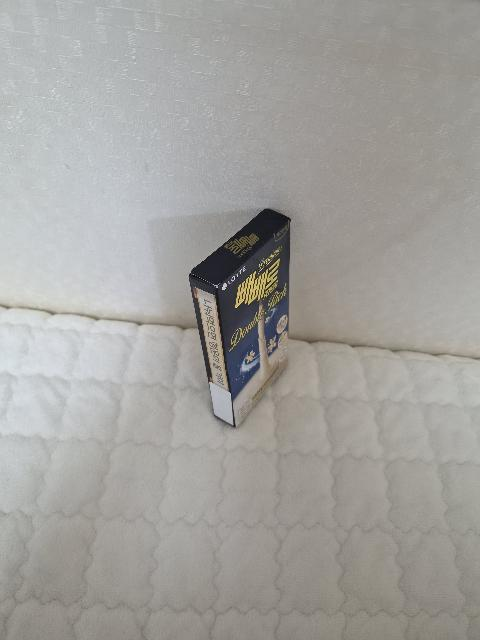pepero: (189, 208, 291, 428)
